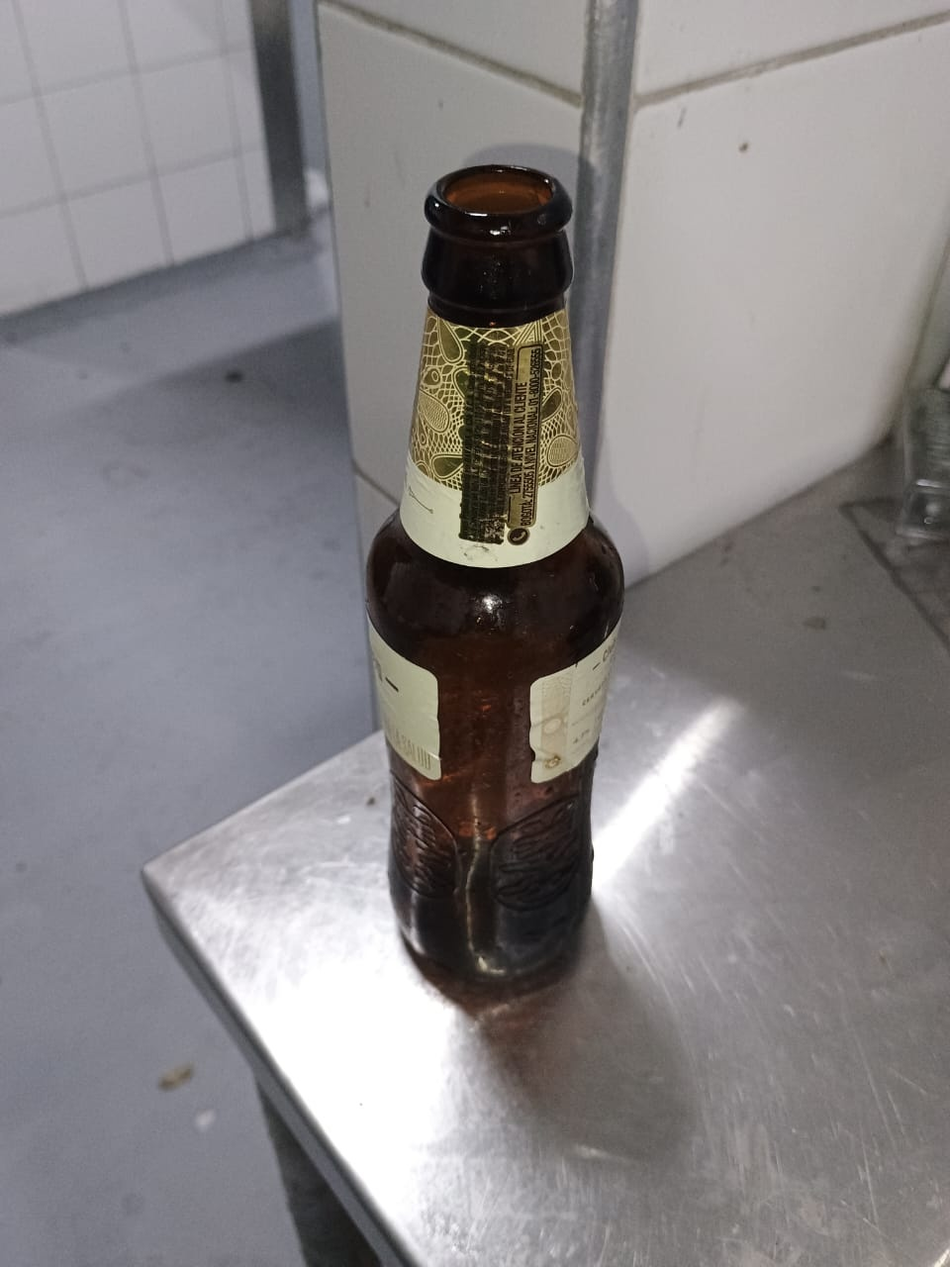Vidrio: (367, 166, 622, 986)
